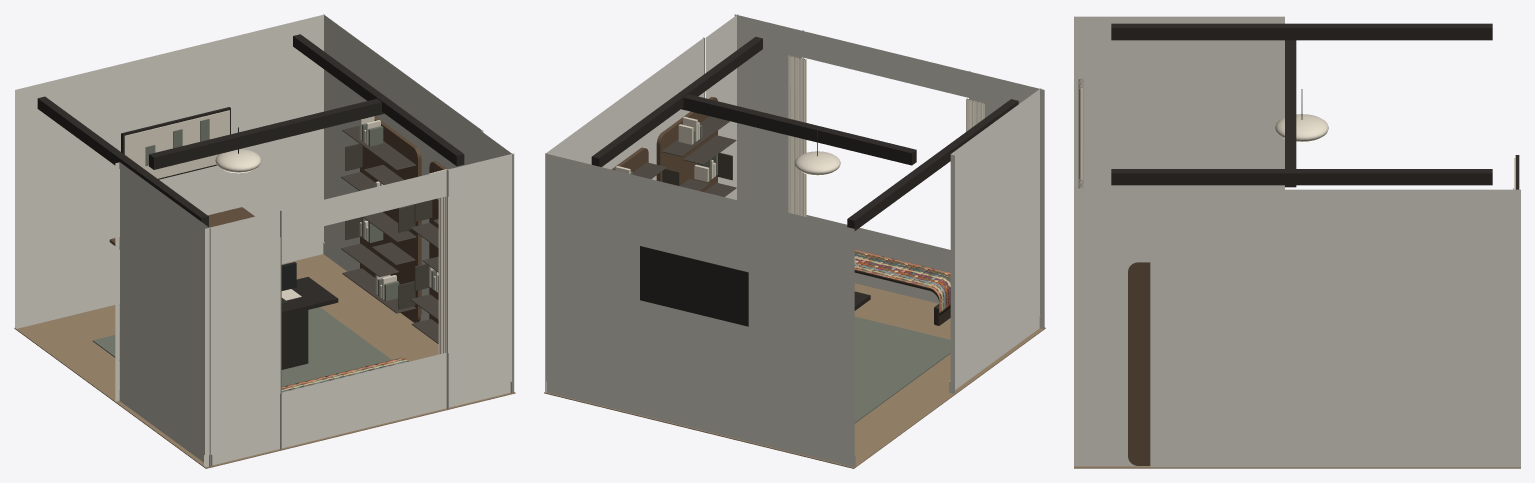
The model's file is formal-1.glb.
The picture shows the model from 3 angles, left to right: view 1: azimuth 30°, elevation 25°; view 2: azimuth 150°, elevation 25°; view 3: azimuth 270°, elevation 25°; orthographic projection. The views are drawn at different scales.
Parts seen in each view (by area): view 1: DESIGN | formal removable wall finish, DESIGN | formal floor finish, DESIGN | Required Blabla bookcase 2, DESIGN | Formal ground, DESIGN | Study timber ceiling outline, DESIGN | Textile artwork, DESIGN | Formal timber boundary.001, DESIGN | Required Blabla bookcase 1, DESIGN | Formal timber boundary, DESIGN | Working desk trestle, DESIGN | Formal soft window edge.001, DESIGN | Working desk top (+4 smaller); view 2: DESIGN | formal removable wall finish, DESIGN | formal floor finish, DESIGN | Quiet artwork frame, DESIGN | Formal ground, DESIGN | Required Blabla bookcase 1, DESIGN | Study timber ceiling outline, DESIGN | Formal timber boundary.001, DESIGN | Required Brera anniversary window bench, DESIGN | Formal timber boundary, DESIGN | Formal soft window edge.001, DESIGN | Study paper light shade, DESIGN | Required Blabla bookcase 2; view 3: DESIGN | formal removable wall finish, DESIGN | Formal timber boundary, DESIGN | Formal timber boundary.001, DESIGN | Required Blabla bookcase 1, DESIGN | Study timber ceiling outline, DESIGN | formal floor finish, DESIGN | Study paper light shade, DESIGN | Formal soft window edge.
Boxes of the visible parts, bbox=[...] form: DESIGN | formal removable wall finish: bbox=[15, 14, 514, 466]; DESIGN | formal floor finish: bbox=[14, 254, 515, 468]; DESIGN | Required Blabla bookcase 2: bbox=[341, 116, 421, 322]; DESIGN | Formal ground: bbox=[92, 307, 391, 386]; DESIGN | Study timber ceiling outline: bbox=[149, 98, 384, 169]; DESIGN | Textile artwork: bbox=[124, 110, 229, 178]; DESIGN | Formal timber boundary.001: bbox=[293, 34, 464, 166]; DESIGN | Required Blabla bookcase 1: bbox=[410, 161, 447, 343]; DESIGN | Formal timber boundary: bbox=[37, 96, 208, 226]; DESIGN | Working desk trestle: bbox=[281, 310, 308, 369]; DESIGN | Formal soft window edge.001: bbox=[438, 196, 446, 354]; DESIGN | Working desk top: bbox=[281, 277, 338, 316]; DESIGN | formal removable wall finish: bbox=[545, 14, 1044, 467]; DESIGN | formal floor finish: bbox=[544, 283, 1045, 468]; DESIGN | Quiet artwork frame: bbox=[640, 246, 748, 326]; DESIGN | Formal ground: bbox=[854, 316, 950, 423]; DESIGN | Required Blabla bookcase 1: bbox=[656, 97, 736, 196]; DESIGN | Study timber ceiling outline: bbox=[681, 94, 916, 165]; DESIGN | Formal timber boundary.001: bbox=[591, 36, 762, 166]; DESIGN | Required Brera anniversary window bench: bbox=[854, 249, 950, 325]; DESIGN | Formal timber boundary: bbox=[847, 99, 1018, 230]; DESIGN | Formal soft window edge.001: bbox=[788, 55, 806, 216]; DESIGN | Study paper light shade: bbox=[794, 151, 840, 175]; DESIGN | Required Blabla bookcase 2: bbox=[611, 147, 666, 178]; DESIGN | formal removable wall finish: bbox=[1074, 16, 1520, 467]; DESIGN | Formal timber boundary: bbox=[1111, 23, 1492, 40]; DESIGN | Formal timber boundary.001: bbox=[1111, 169, 1492, 185]; DESIGN | Required Blabla bookcase 1: bbox=[1128, 262, 1150, 465]; DESIGN | Study timber ceiling outline: bbox=[1285, 40, 1296, 187]; DESIGN | formal floor finish: bbox=[1074, 466, 1520, 468]; DESIGN | Study paper light shade: bbox=[1275, 114, 1328, 141]; DESIGN | Formal soft window edge: bbox=[1078, 78, 1083, 181].
Size of the model in its own units: 3.71 by 2.74 by 3.98.
